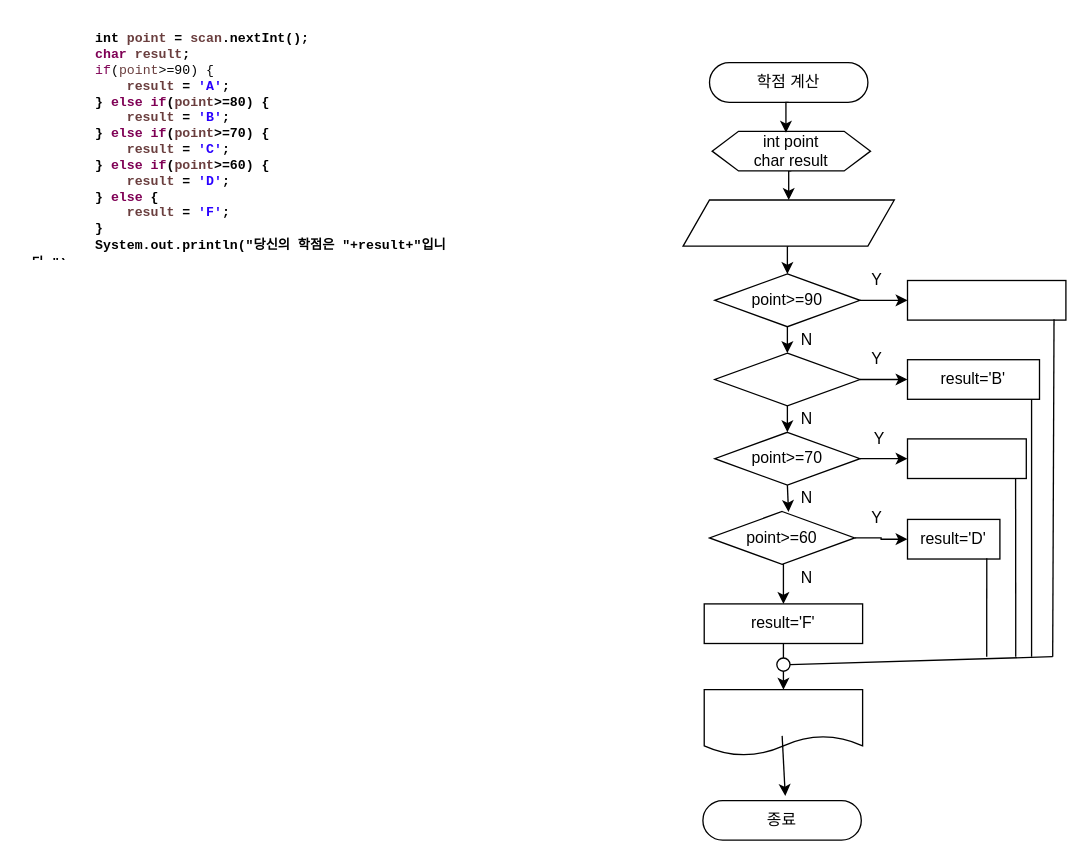
Image size: 1089x863. Some labels were removed from this diagram. Here are the shapes that lost their labels. From the top down, the box of each, then its label:
(682, 199, 894, 246): point =scan.nextInt()
(906, 279, 1066, 320): result='A'
(713, 352, 860, 406): point>=80
(906, 438, 1026, 478): result='C'
(703, 688, 863, 756): result
